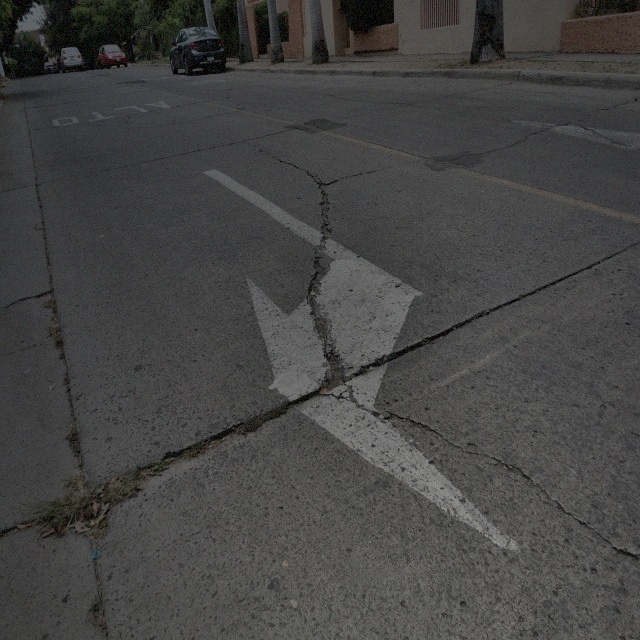pothole: (309, 296, 348, 392), (325, 350, 345, 388)
